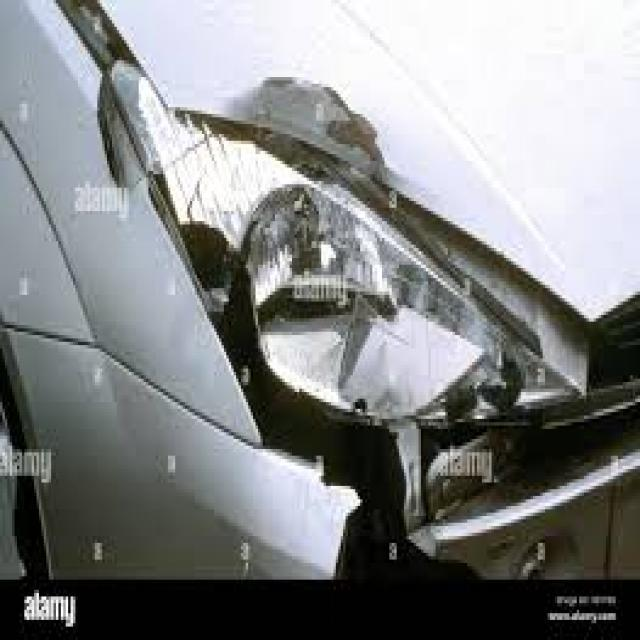damaged-head-light: (149, 100, 576, 444)
